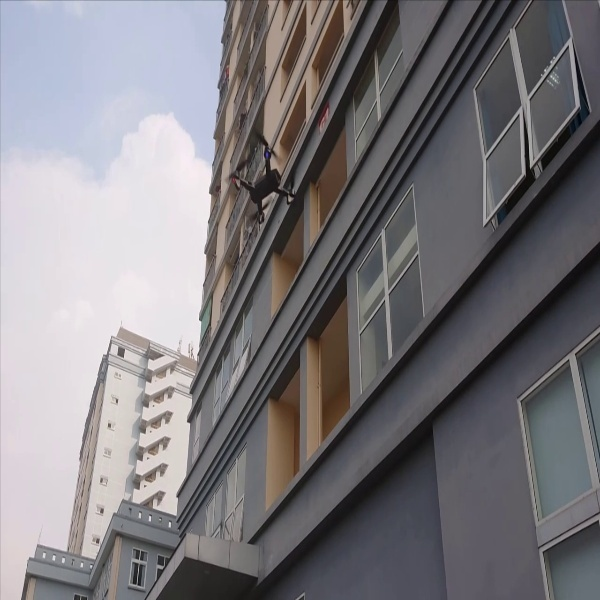drone: (218, 126, 306, 233)
